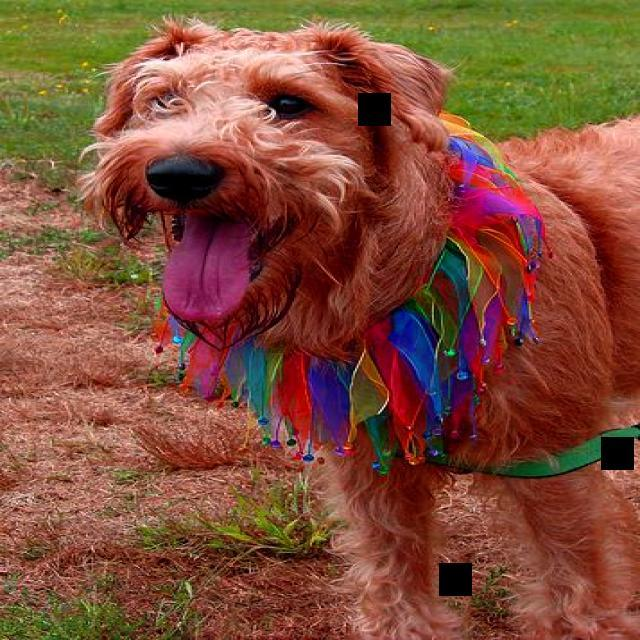adult_dog: (64, 7, 640, 634)
